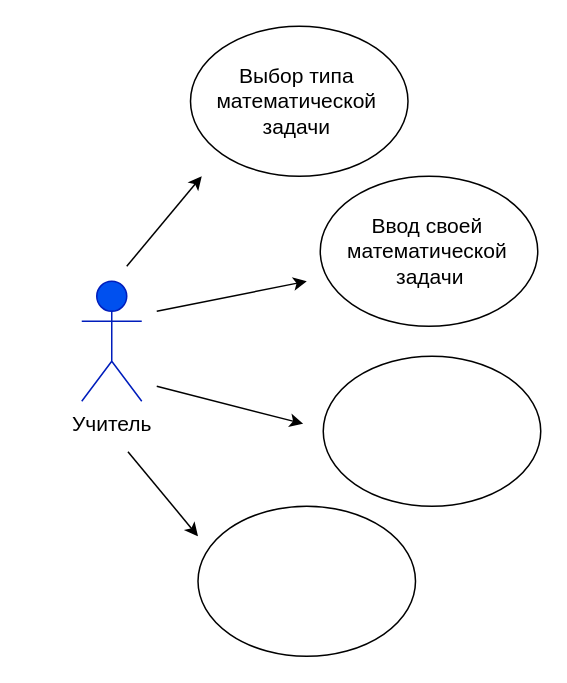
Some shapes in this 567 by 683 pixel diagram are drawn without their labels. The shapes that lost their labels are listed below. From the top down, each one's centre as x and y in pixels, then its label:
At [431,430]: "Сгенерированная задача".
At [306,580]: "Ответ к задаче и график, соответствующий задаче".
